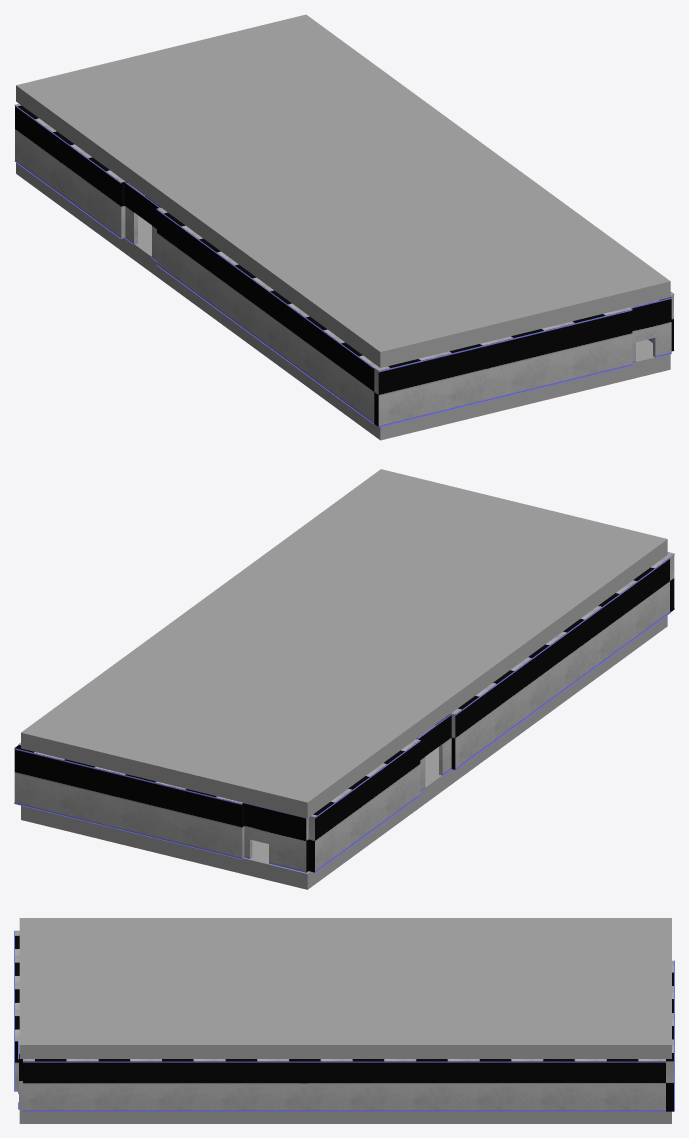
The model's file is SM_BigStorageRoom.fbx.
3 views of the same model, one above another, from view 1: azimuth 30°, elevation 25°; view 2: azimuth 150°, elevation 25°; view 3: azimuth 270°, elevation 25° (orthographic). The views are drawn at different scales.
Parts seen in each view (by area): view 1: StorageRoomRoof, SM_Wall_01a1, SM_Wall_01a8, SM_Wall_01a2, Floor13, SM_Wall_01a3, SM_DoubleDoor_01a1, SM_DoubleDoor_01a2; view 2: StorageRoomRoof, SM_Wall_01a4, SM_Wall_01a8, Floor13, SM_Wall_01a3, SM_Wall_01a2, SM_DoubleDoor_01a4, SM_DoubleDoor_01a2; view 3: StorageRoomRoof, SM_Wall_01a5, Floor13, SM_Wall_01a1, SM_Wall_01a4.
Boxes of the visible parts, x1,y1,x2,y2 form: StorageRoomRoof: (16, 14, 670, 367); SM_Wall_01a1: (374, 307, 632, 427); SM_Wall_01a8: (156, 207, 378, 423); SM_Wall_01a2: (156, 209, 377, 423); Floor13: (16, 163, 670, 440); SM_Wall_01a3: (14, 103, 125, 238); SM_DoubleDoor_01a1: (630, 297, 671, 363); SM_DoubleDoor_01a2: (124, 181, 160, 261); StorageRoomRoof: (21, 469, 667, 818); SM_Wall_01a4: (14, 745, 244, 859); SM_Wall_01a8: (451, 556, 670, 769); Floor13: (21, 615, 667, 889); SM_Wall_01a3: (308, 739, 420, 872); SM_Wall_01a2: (451, 557, 669, 769); SM_DoubleDoor_01a4: (244, 803, 308, 872); SM_DoubleDoor_01a2: (416, 713, 451, 792); StorageRoomRoof: (19, 918, 671, 1058); SM_Wall_01a5: (23, 1059, 665, 1111); Floor13: (19, 1109, 671, 1123); SM_Wall_01a1: (14, 930, 19, 1091); SM_Wall_01a4: (666, 960, 674, 1111).
Bounding box in the file's own units: 1962 × 549 × 4162.
